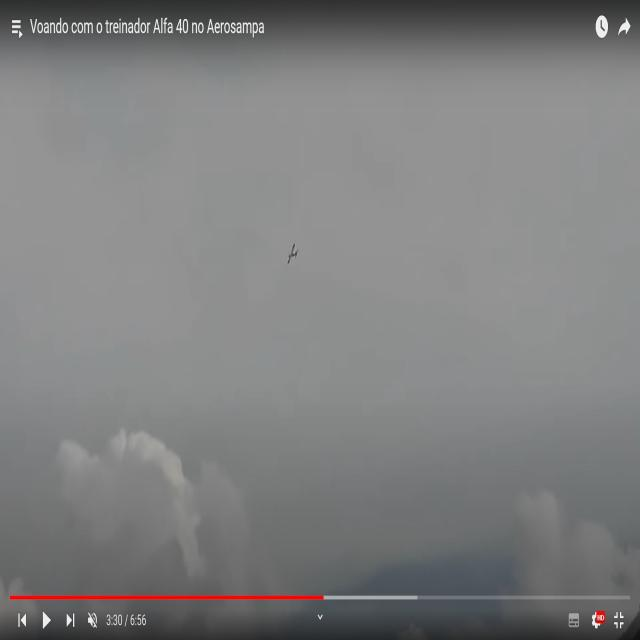iha: (291, 241, 296, 262)
